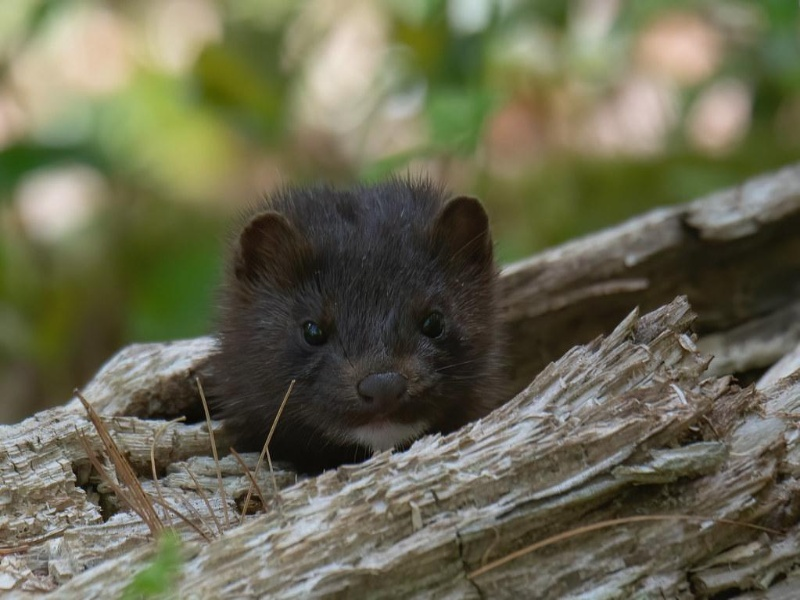minkish: (209, 177, 505, 473)
